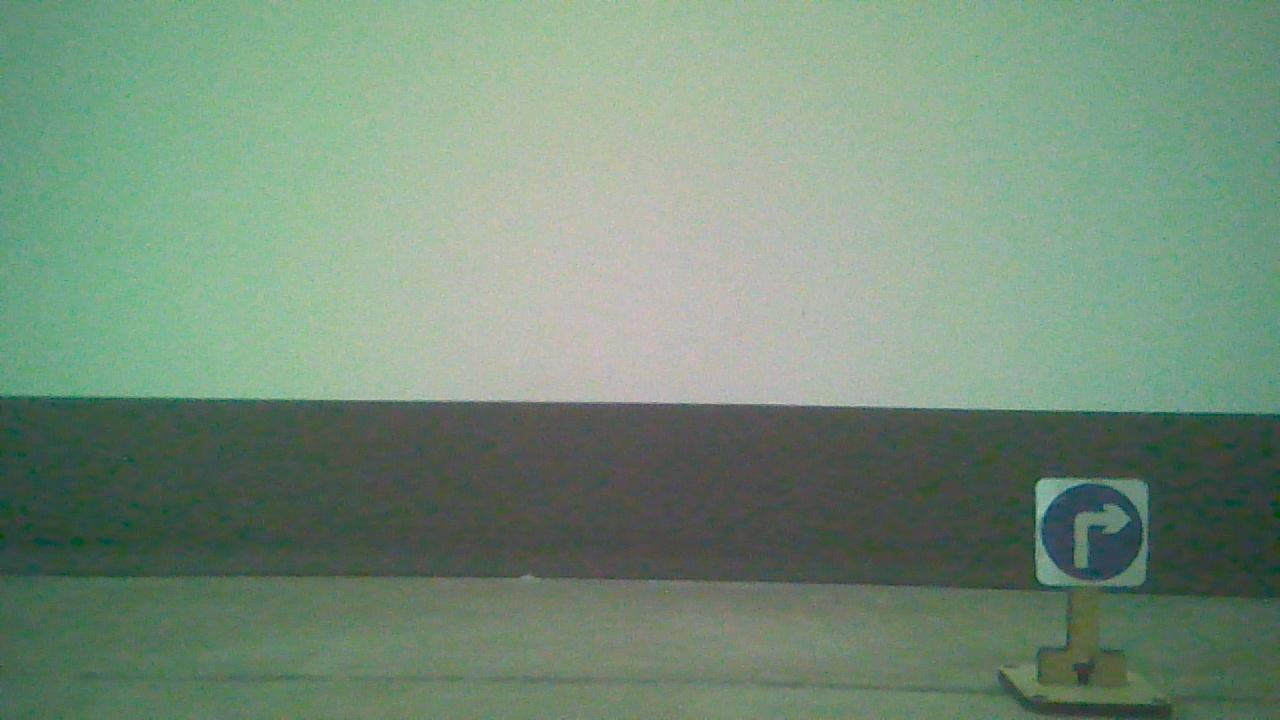turn: (1037, 479, 1146, 586)
